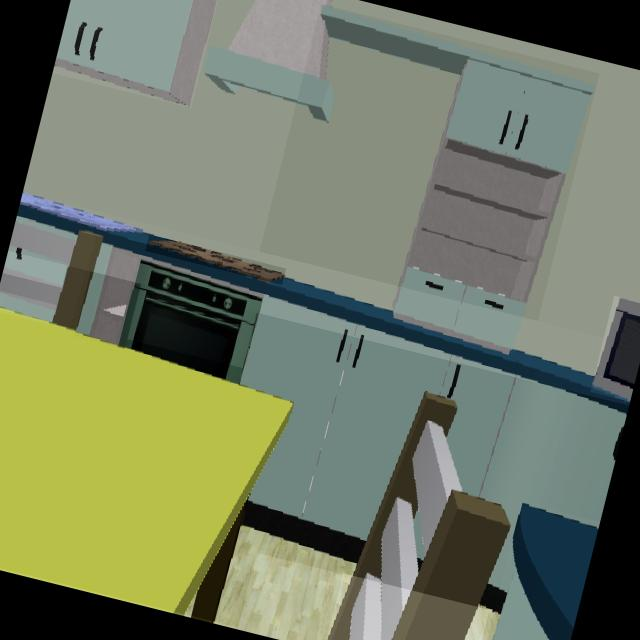cabinet: (238, 295, 626, 612), (318, 5, 596, 353), (53, 0, 217, 107), (75, 243, 147, 346), (492, 569, 549, 640), (3, 245, 66, 287), (0, 292, 54, 322)
chair: (327, 393, 510, 640), (0, 217, 103, 331)
countertop: (16, 192, 629, 405), (511, 504, 598, 640)
microwave: (592, 298, 640, 400)
stove: (146, 241, 283, 282)
table: (0, 308, 293, 623)
